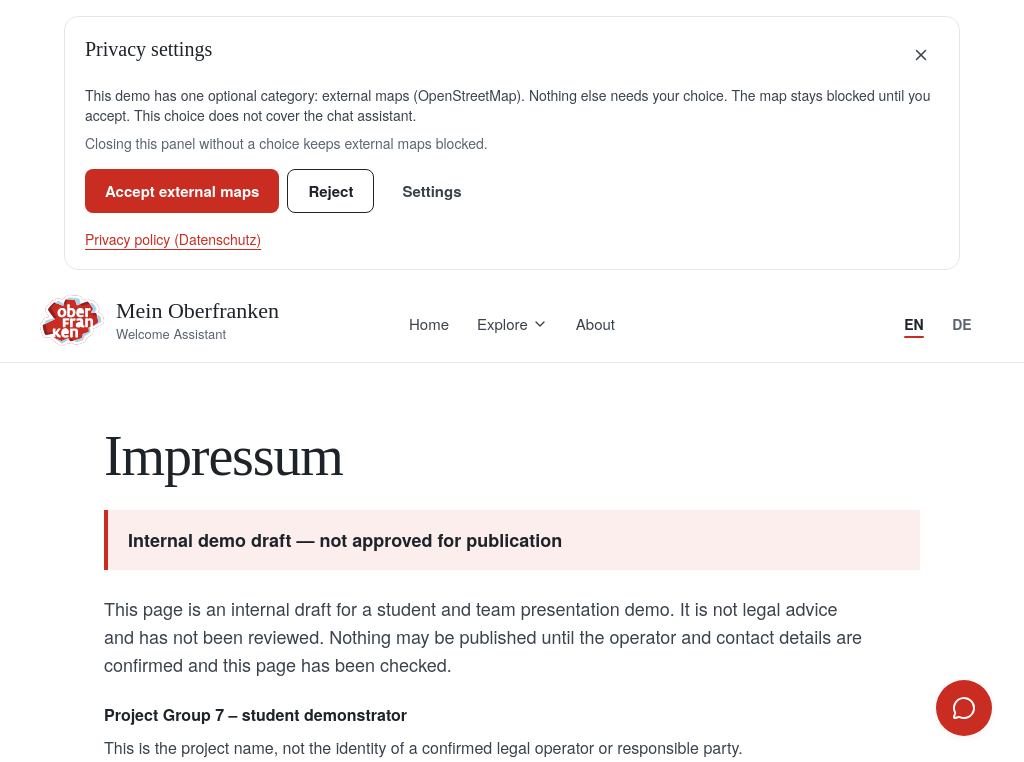
legal pages in de › /impressum opens directly, with the draft status shown prominently
Click the button with aria-label "Deutsch". click: point(962, 324)
box: [940,302,984,346]
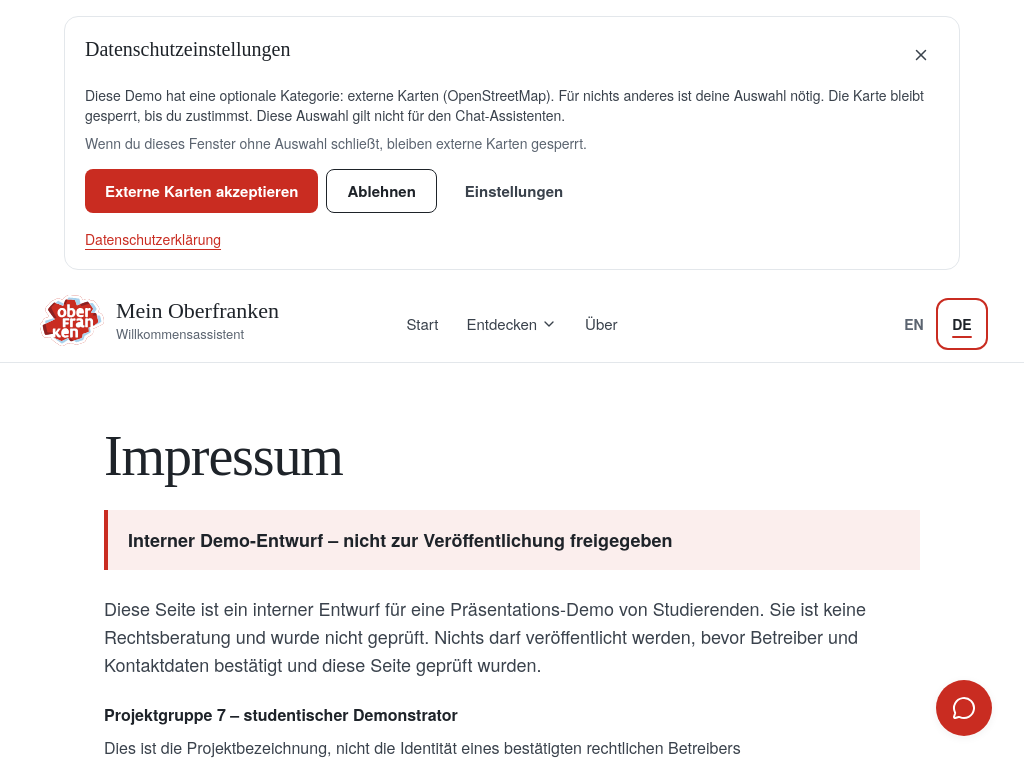
Expected: the heading "Impressum" is shown, [104,425,343,487]
Expected: the text "Interner Demo-Entwurf – nicht zur Veröffentlichung freigegeben" is shown, [104,510,920,570]
